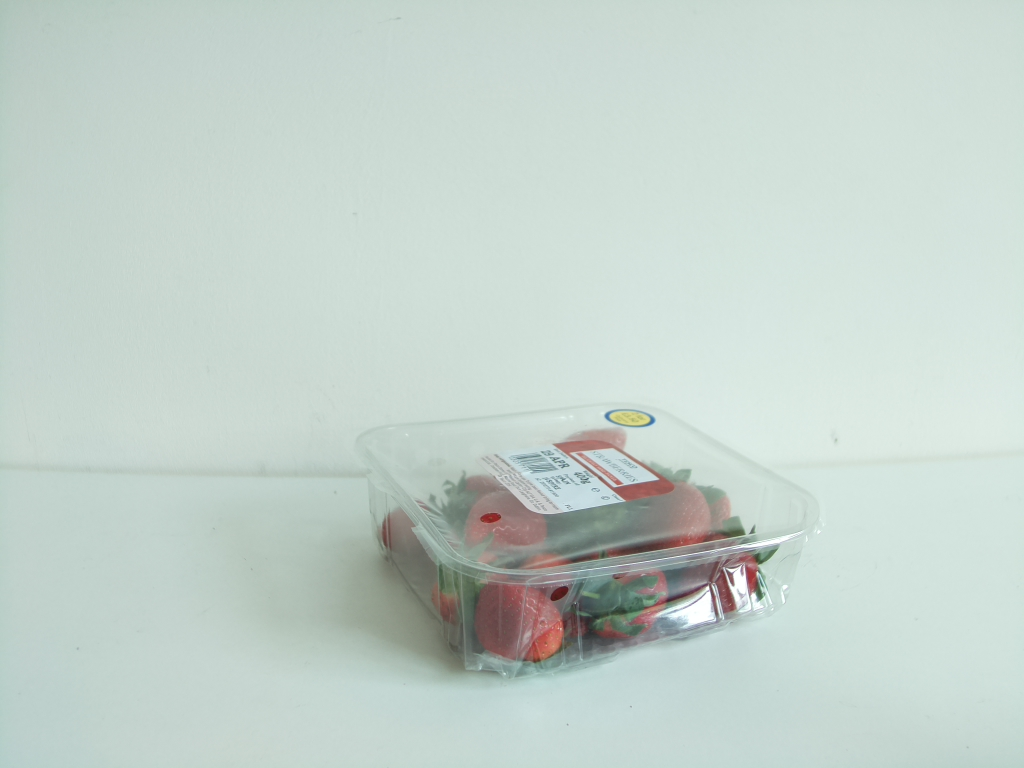soft-fruit: (354, 403, 829, 682)
